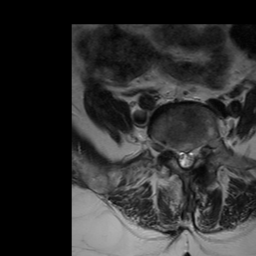CCS_stenosis: (182, 141, 188, 174)
LFS_normal: (195, 138, 203, 165)
LLS_normal: (188, 140, 195, 172)
RFS_stenosis: (167, 138, 175, 160)
RLS_normal: (175, 141, 182, 171)
